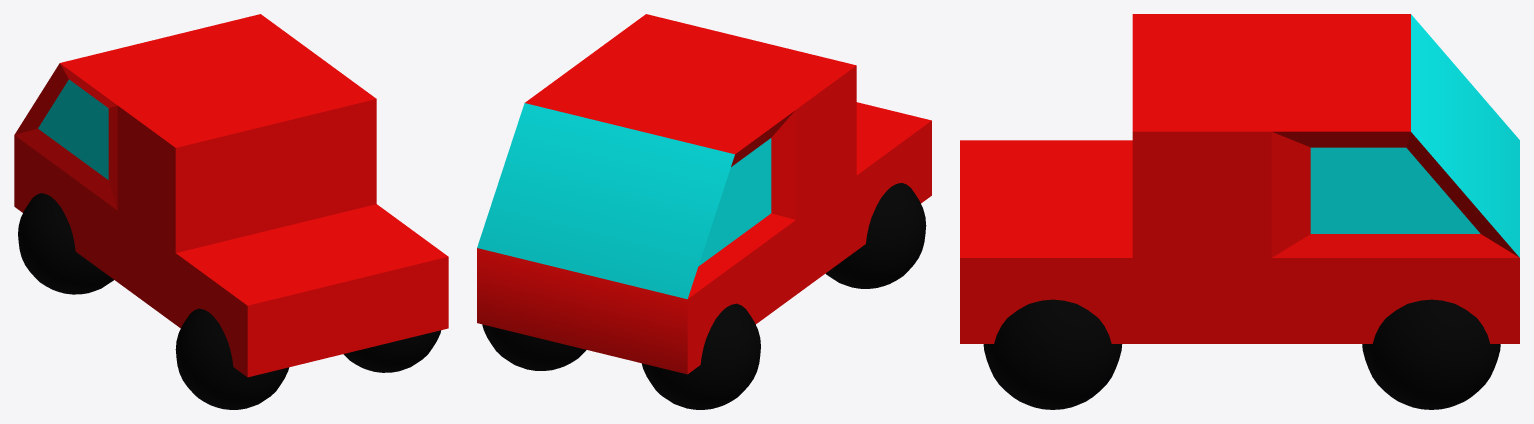
File: car_coinrush.fbx
The picture shows the model from 3 angles, left to right: view 1: azimuth 30°, elevation 25°; view 2: azimuth 150°, elevation 25°; view 3: azimuth 270°, elevation 25°; orthographic projection. The views are drawn at different scales.
Visible parts, largest first — view 1: pCube1, pSphere3, pSphere4, pSphere2; view 2: pCube1, pSphere4, pSphere3, pSphere1; view 3: pCube1, pSphere1, pSphere2.
Boxes of the visible parts, left/top/right/bottom form: pCube1: left=14, top=14, right=448, bottom=377; pSphere3: left=175, top=308, right=288, bottom=409; pSphere4: left=18, top=193, right=113, bottom=294; pSphere2: left=343, top=330, right=441, bottom=372; pCube1: left=477, top=14, right=931, bottom=374; pSphere4: left=641, top=303, right=760, bottom=409; pSphere3: left=825, top=183, right=926, bottom=288; pSphere1: left=482, top=324, right=586, bottom=370; pCube1: left=960, top=14, right=1519, bottom=343; pSphere1: left=1362, top=299, right=1500, bottom=409; pSphere2: left=983, top=299, right=1122, bottom=409.
Size of the model in its own units: 5.03 by 4.53 by 8.04.
